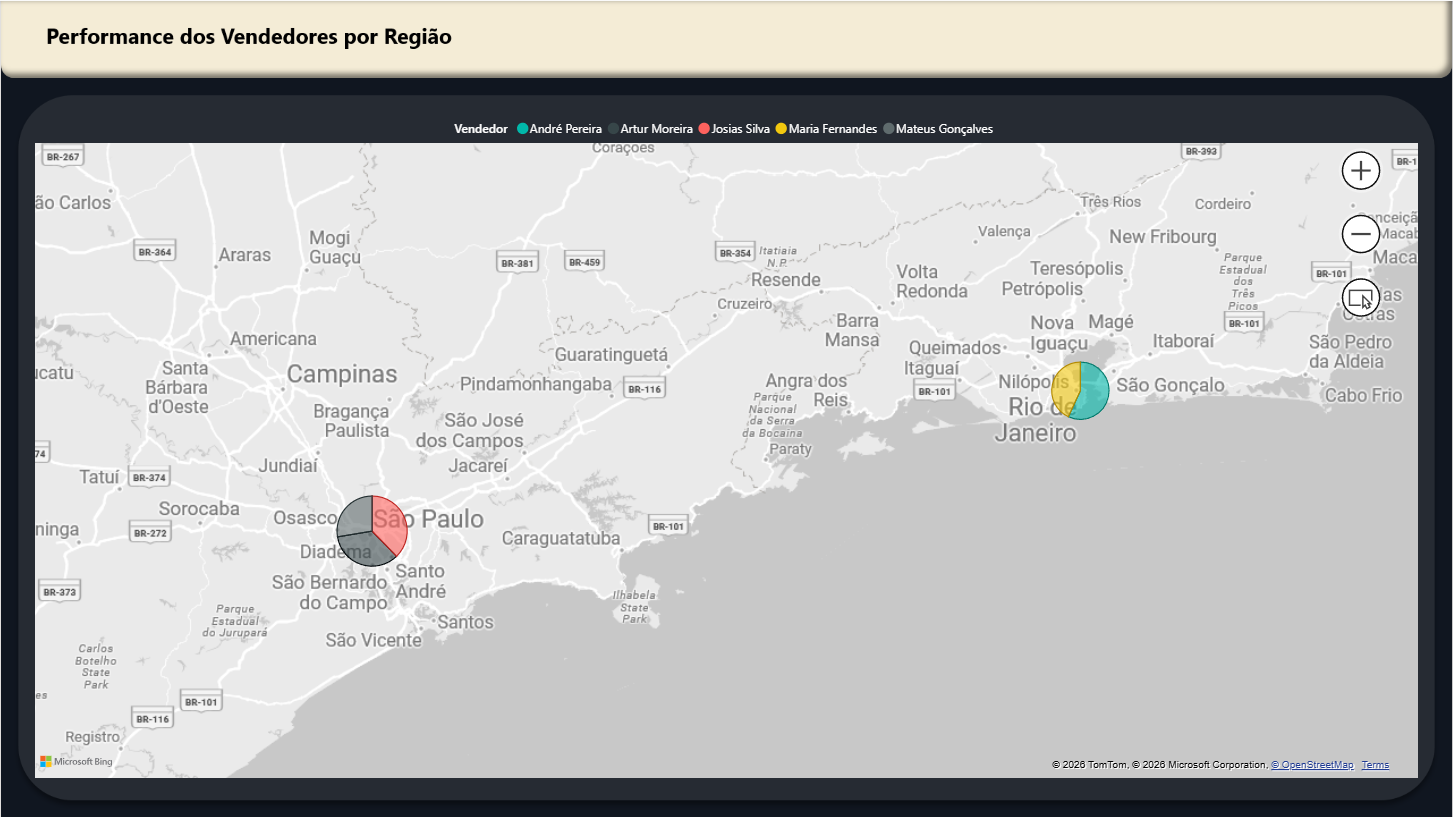

The dashboard page shown, as its layout file describes it:
{"tool":"powerbi","page":{"name":"Performance dos Vendedores por Região","canvas":[1280,720],"ordinal":4},"visuals":[{"type":"map","fields":{"Category":["Vendas.Estado","Vendas.Cidade"],"Series":["Vendas.Vendedor"],"Size":["Sum(Vendas.ValorVenda)"]},"box":[24.6,93.1,1230.1,597.1],"z":0}]}

Visuals, with their boxes in screenshot pixels (x1, y1, x2, y2), scaled from the page's 1280x720 canvas onto the 1453x817 screenshot:
map - Vendas.Estado x Vendas.Cidade: detection(28, 106, 1424, 783)
